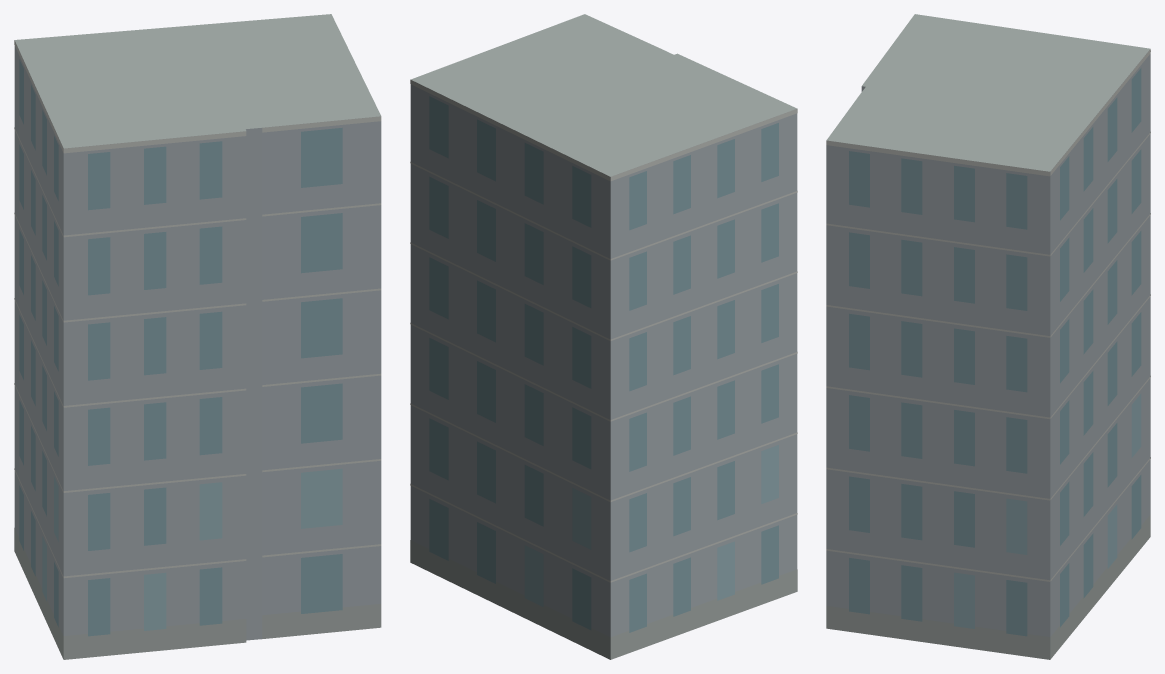
File: survey-upis-32910152.glb
3 renders of one model, left to right at view 1: azimuth 30°, elevation 25°; view 2: azimuth 150°, elevation 25°; view 3: azimuth 270°, elevation 25°, orthographic. The views are drawn at different scales.
Visible parts, largest first — view 1: survey-upis-32910152.tmp; view 2: survey-upis-32910152.tmp; view 3: survey-upis-32910152.tmp.
Boxes of the visible parts, box(x1,y1,x2,y2) form: survey-upis-32910152.tmp: box(14, 14, 381, 659); survey-upis-32910152.tmp: box(410, 14, 797, 659); survey-upis-32910152.tmp: box(826, 14, 1150, 659).
Bounding box in the file's own units: 17.79 × 25.63 × 15.46.
